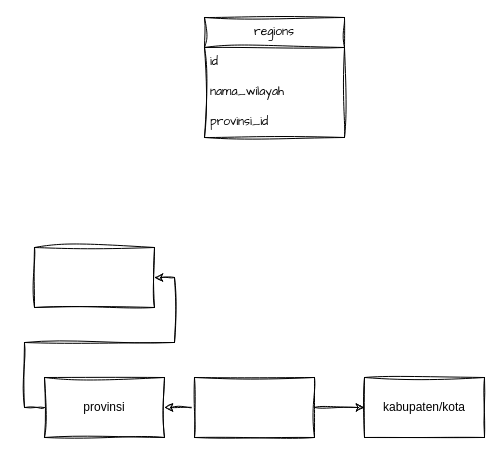
Some shapes in this 502 by 455 pixel diagram are drawn without their labels. The shapes that lost their labels are listed below. From the top down, each one's box as (x1, y1, x2, y2) in pixels, then its label:
(34, 246, 154, 308): wilayah
(194, 376, 314, 438): pdam
